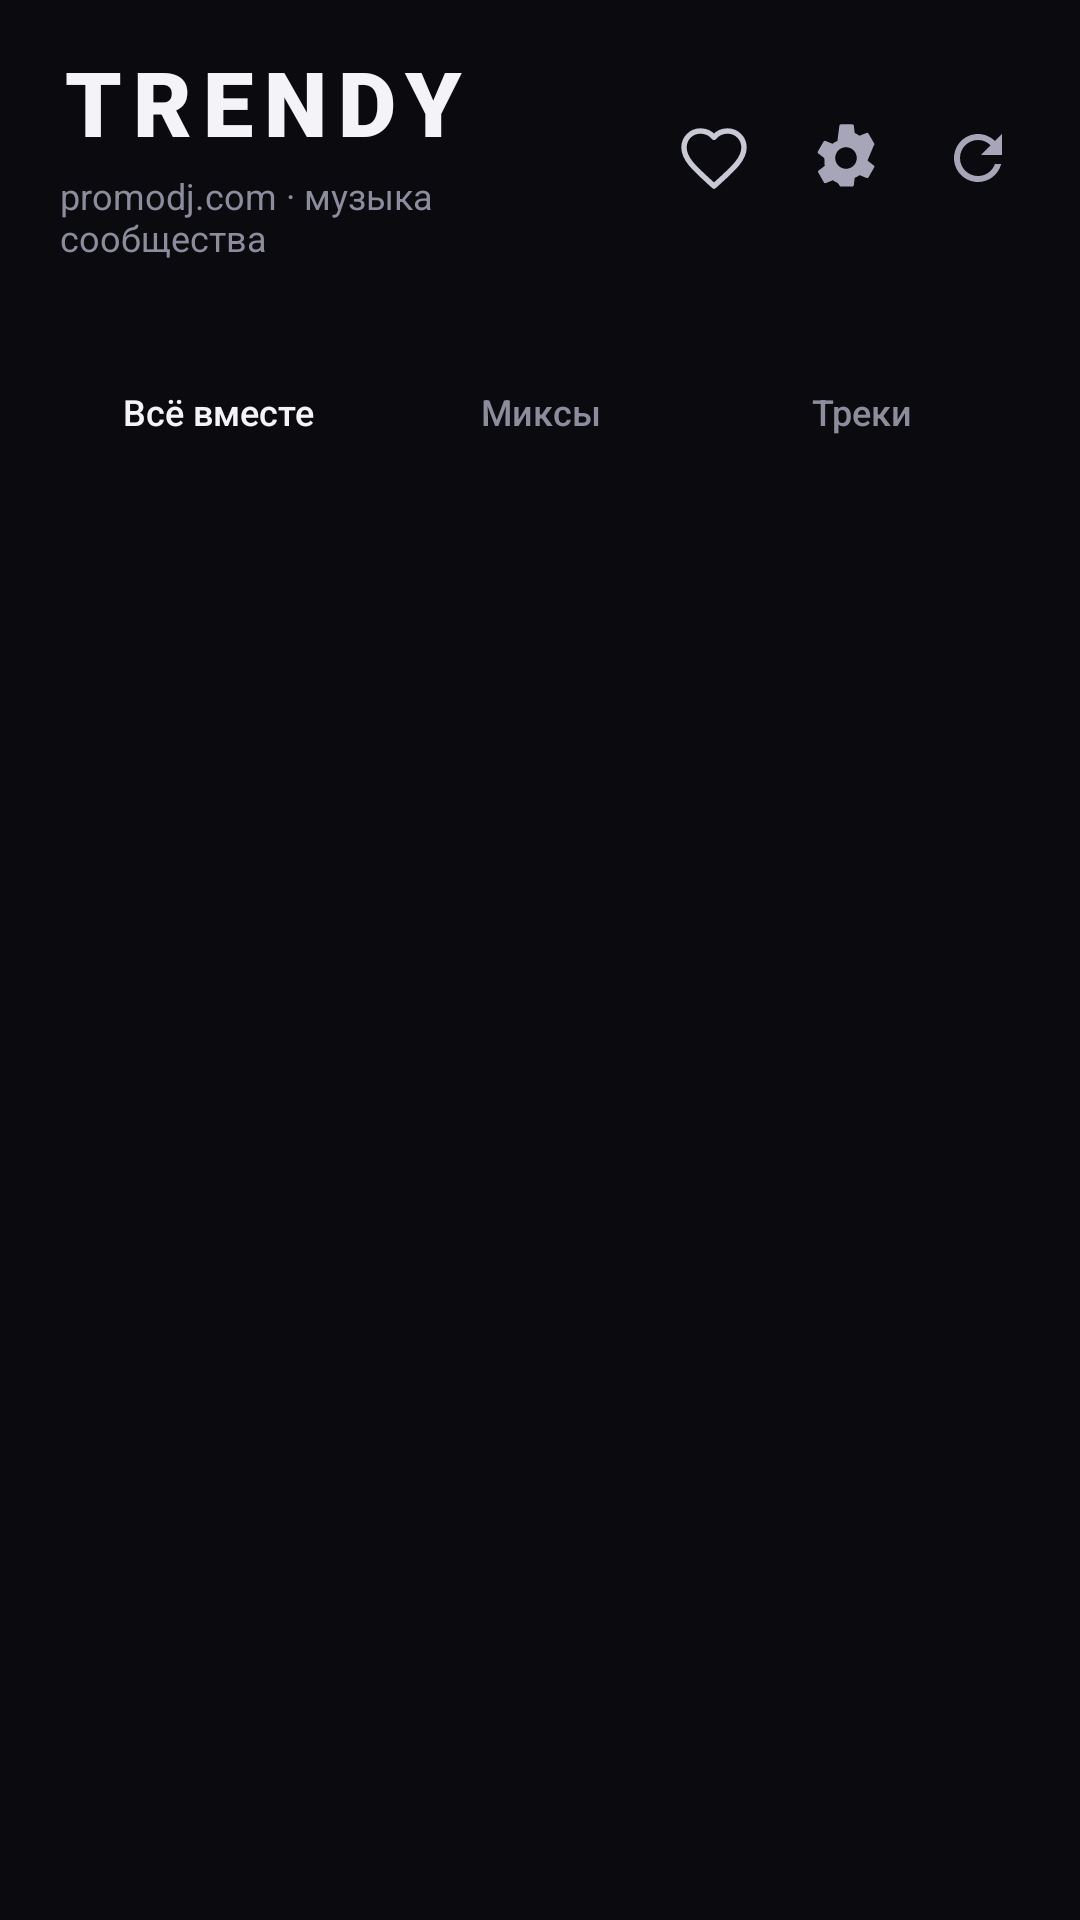

Where to tap for icons on this 1080*1920 app screen, as point (x, y):
Избранное: point (714, 158)
Настройки: point (846, 155)
Обновить: point (978, 158)
